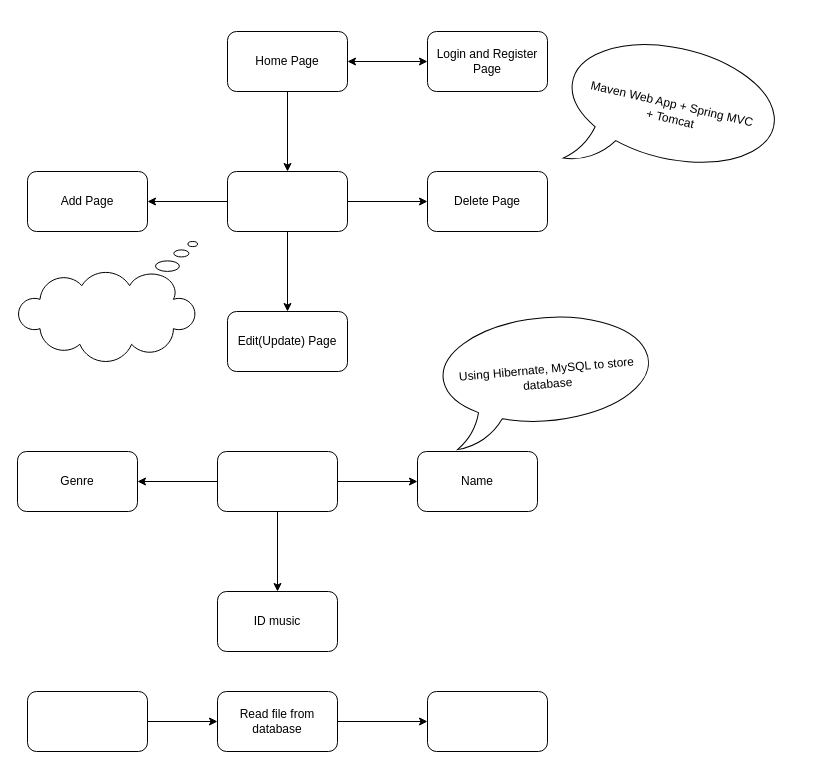
Image size: 818x770. Some labels were removed from this diagram. The centre of each missing label's shape, as x and y in pixels:
Database: [277,481]
Front-end use AngularJS/JSON file: [107,301]
Main App Page(CRUD): [287,201]
Play Music: [87,721]
Using HTML audio tag to play: [487,721]
